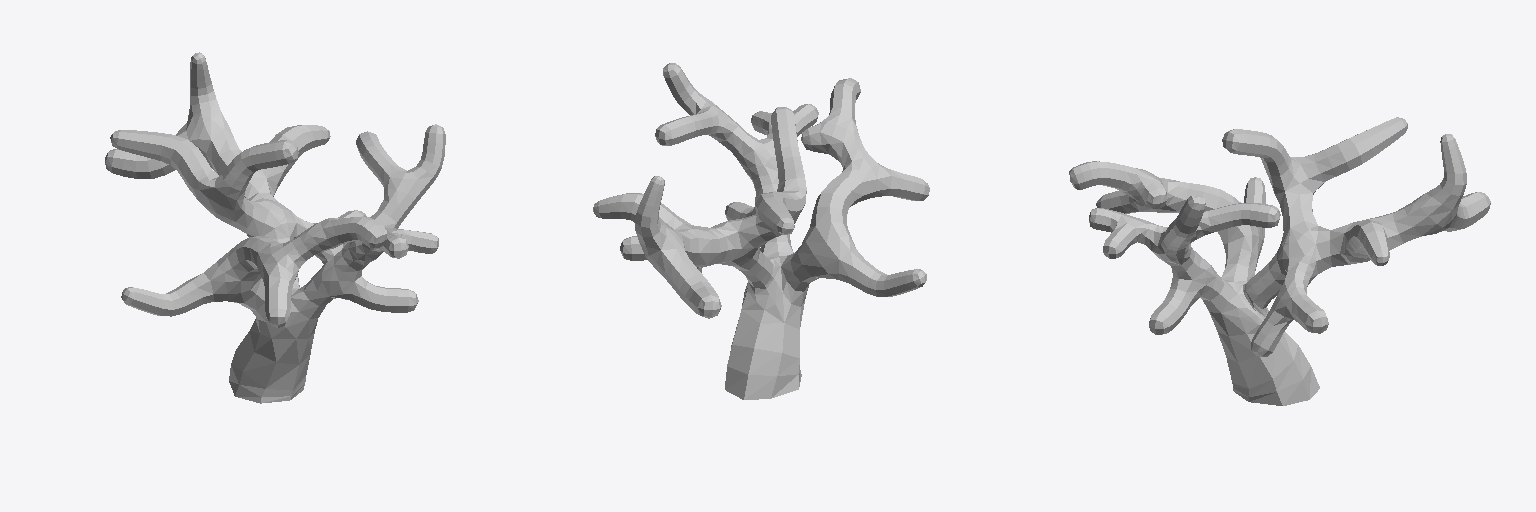
The model's file is treeTest.obj.
3 renders of one model, left to right at view 1: azimuth 30°, elevation 25°; view 2: azimuth 150°, elevation 25°; view 3: azimuth 270°, elevation 25°, orthographic.
Visible parts, largest first — view 1: tree_Plane, tree.001_Plane.002; view 2: tree_Plane, tree.001_Plane.002; view 3: tree_Plane, tree.001_Plane.002.
Boxes of the visible parts, <box> form: tree_Plane: <box>105,52,445,388</box>; tree.001_Plane.002: <box>178,125,426,403</box>; tree_Plane: <box>593,63,929,357</box>; tree.001_Plane.002: <box>665,136,801,399</box>; tree_Plane: <box>1069,117,1490,388</box>; tree.001_Plane.002: <box>1140,199,1432,405</box>.
Bounding box in the file's own units: 3.82 × 3.37 × 4.8.